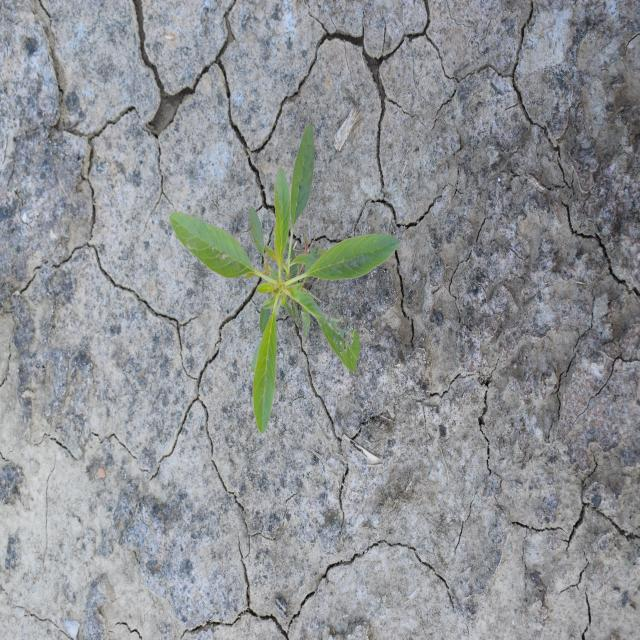Waterhemp: (168, 122, 400, 436)
